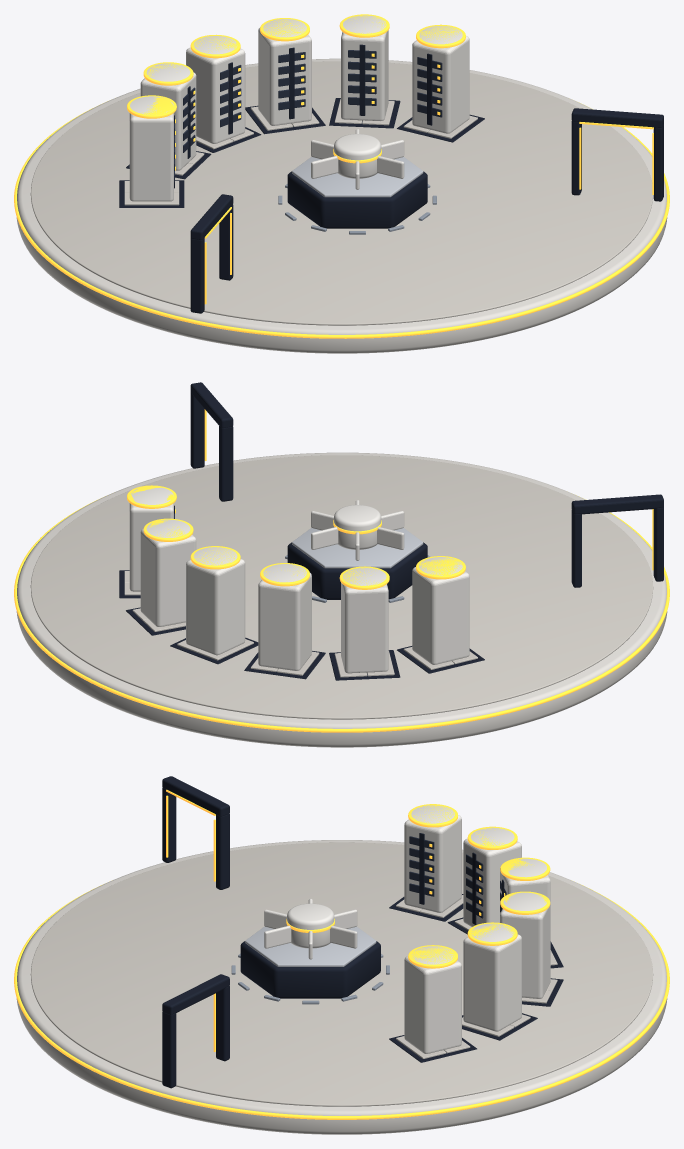
The model's file is capacity-field.glb.
3 views of the same model, one above another, from view 1: azimuth 30°, elevation 25°; view 2: azimuth 150°, elevation 25°; view 3: azimuth 270°, elevation 25° (orthographic).
Parts seen in each view (by area): view 1: Plinth top, Plinth, Hub body, Server body, Server body.005, Field inlay, Server body.003, Server body.002, Server body.001, Hub top, Server body.004, Crown core (+22 smaller); view 2: Plinth top, Plinth, Server body.002, Server body.005, Server body.003, Server body.001, Server body.004, Field inlay, Hub top, Hub body, Crown core, Server body (+15 smaller); view 3: Plinth top, Plinth, Server body.001, Server body, Hub body, Server body.005, Field inlay, Server body.002, Hub top, Server body.004, Crown core, Gate post R1 (+18 smaller).
Boxes of the visible parts, box(x1,y1,x2,y2) form: Plinth top: box(30, 61, 652, 325); Plinth: box(16, 58, 667, 353); Hub body: box(287, 171, 427, 228); Server body: box(412, 36, 469, 133); Server body.005: box(129, 113, 173, 201); Field inlay: box(14, 101, 669, 338); Server body.003: box(186, 47, 245, 143); Server body.002: box(258, 27, 311, 125); Server body.001: box(341, 30, 388, 120); Hub top: box(292, 157, 423, 197); Server body.004: box(140, 72, 196, 170); Crown core: box(334, 134, 381, 178); Plinth top: box(30, 455, 653, 719); Plinth: box(16, 452, 667, 747); Server body.002: box(186, 559, 245, 655); Server body.005: box(412, 567, 469, 664); Server body.003: box(258, 573, 311, 670); Server body.001: box(140, 529, 196, 626); Server body.004: box(341, 583, 388, 673); Field inlay: box(14, 495, 669, 732); Hub top: box(292, 528, 423, 568); Hub body: box(287, 542, 427, 599); Crown core: box(334, 505, 381, 549); Server body: box(129, 503, 173, 591); Plinth top: box(30, 842, 653, 1106); Plinth: box(16, 840, 667, 1134); Server body.001: box(463, 934, 521, 1031); Server body: box(404, 956, 461, 1053); Hub body: box(240, 941, 380, 998); Server body.005: box(404, 815, 461, 912); Field inlay: box(14, 881, 669, 1119); Server body.002: box(500, 902, 550, 998); Hub top: box(245, 926, 376, 966); Server body.004: box(463, 838, 521, 926); Crown core: box(287, 903, 334, 948); Gate post R1: box(162, 1012, 176, 1088).
Size of the model in its own units: 25.19 by 4.84 by 25.19.
